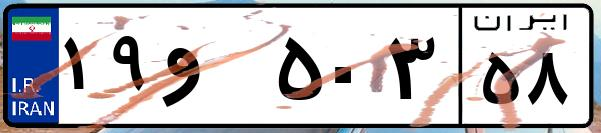0: (330, 28, 385, 110)
1: (57, 26, 110, 100)
3: (385, 28, 445, 110)
5: (270, 28, 330, 110), (475, 38, 525, 113)
8: (525, 38, 570, 115)
9: (110, 28, 158, 98)
و: (158, 20, 270, 120)
